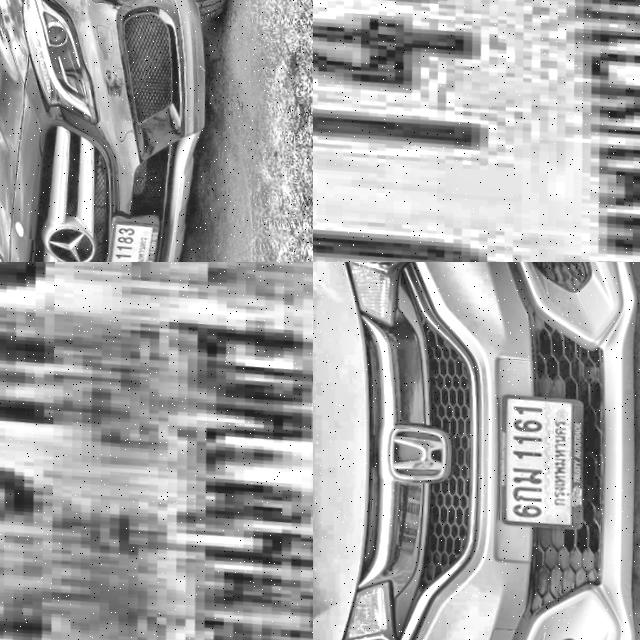license-plate: (0, 262, 313, 640), (313, 0, 640, 262), (496, 377, 592, 521), (103, 199, 172, 262)
